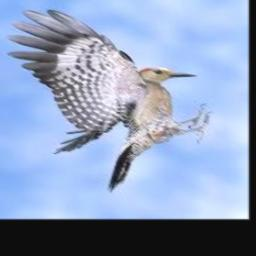Woodpecker: (7, 10, 212, 192)
